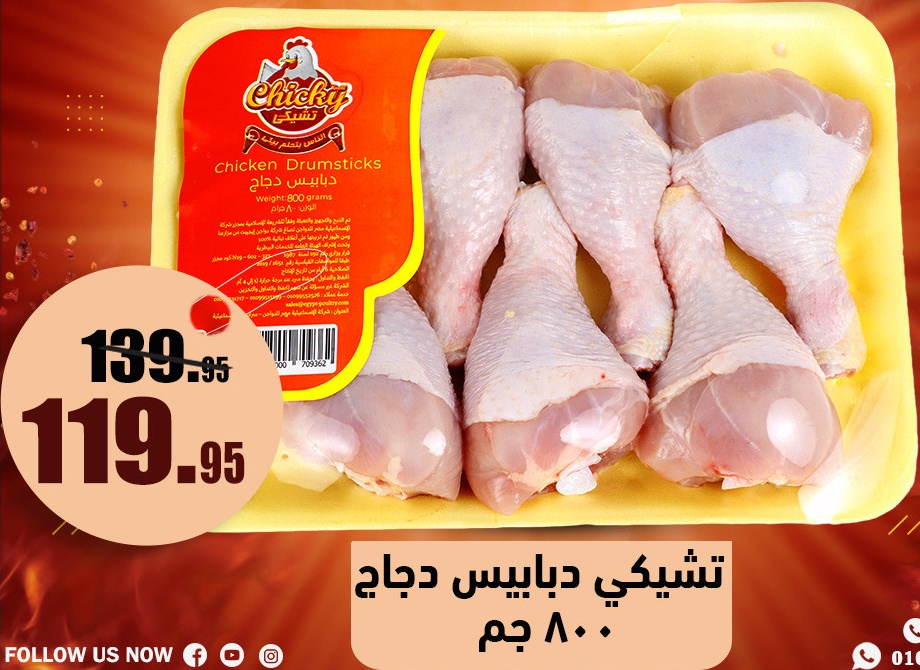descrip: (355, 547, 728, 656)
img: (186, 5, 908, 526)
price_after: (19, 395, 245, 486)
price_before: (81, 327, 230, 390)
